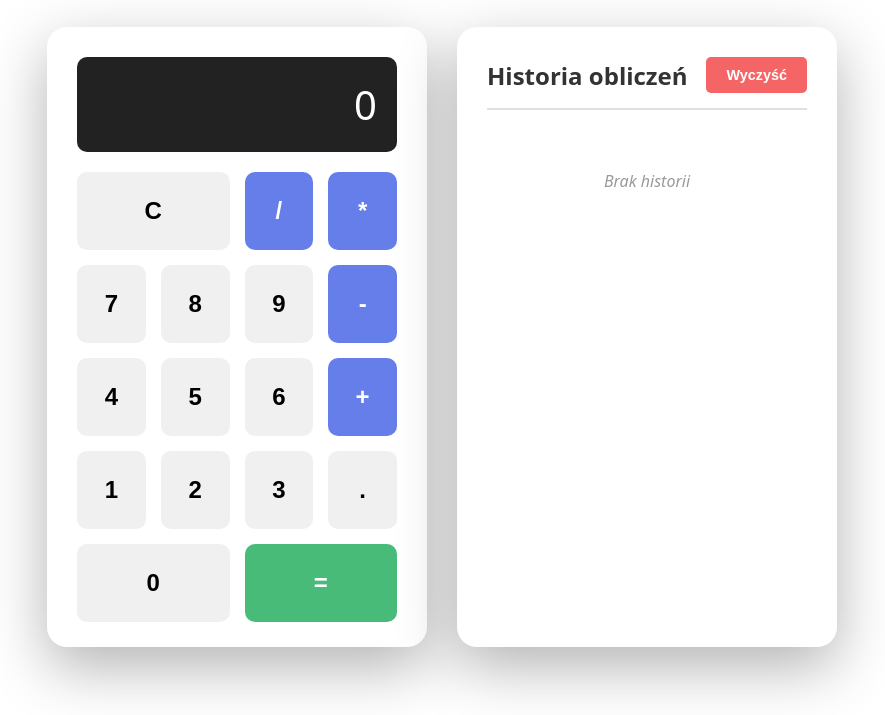
Scenario: Calculator App › clears display when C is clicked
Click the button "5".
click(195, 397)  # box [161,358,230,436]
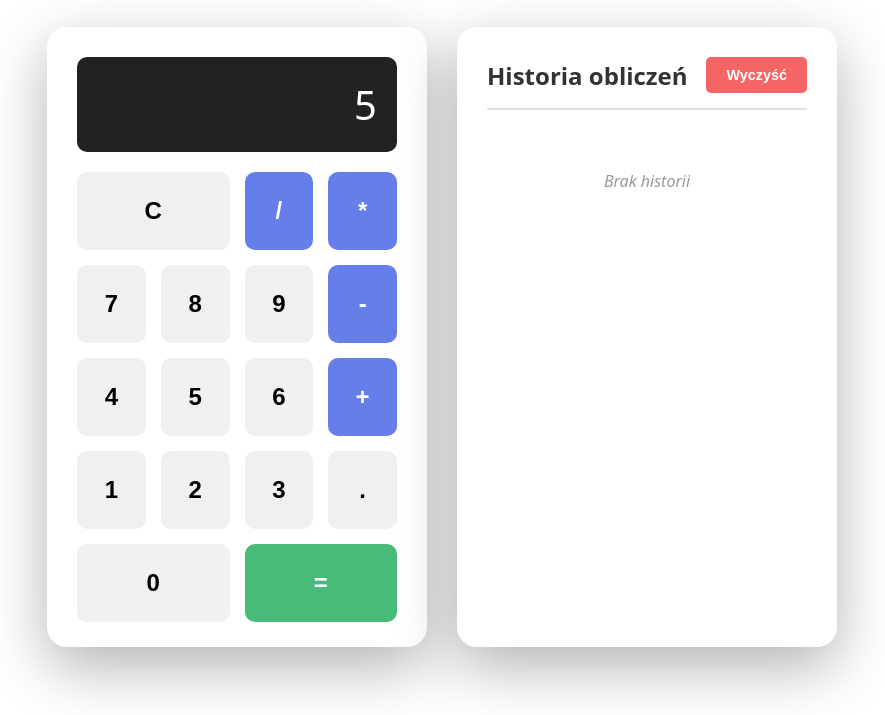
Click the button "C".
click(153, 211)  # box [77,172,230,250]
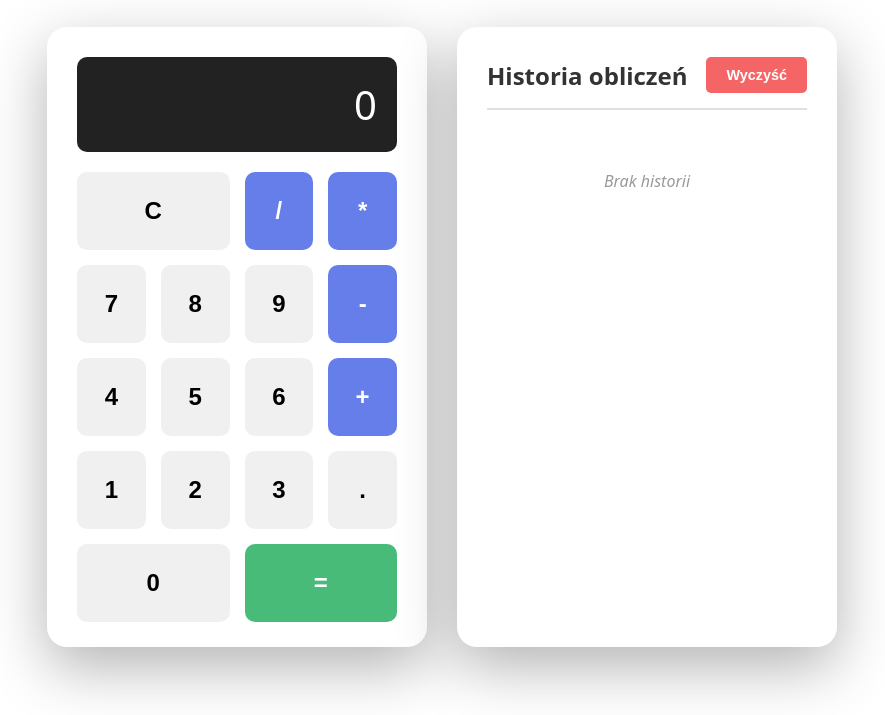
Now the text with class "display" reads "0", box [354,77,377,132]
